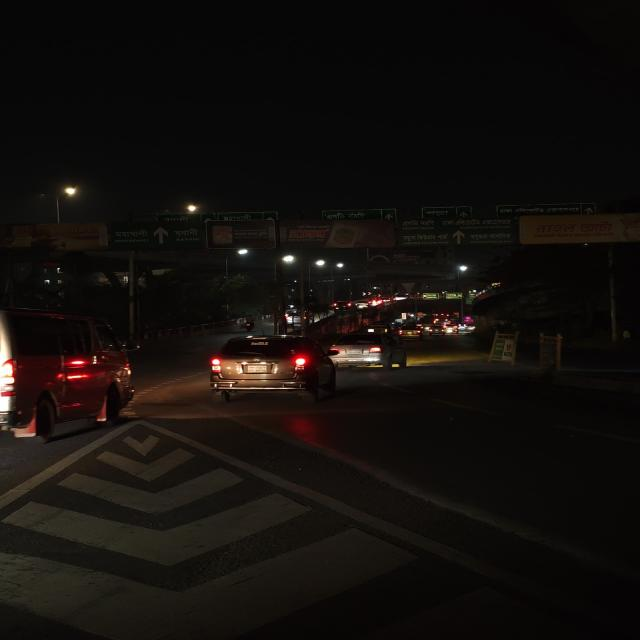car: (0, 307, 137, 446), (202, 334, 339, 404), (330, 330, 411, 371), (397, 324, 425, 339), (426, 325, 448, 337), (332, 300, 354, 310), (444, 323, 460, 335)
motorcycle: (239, 316, 258, 332)
